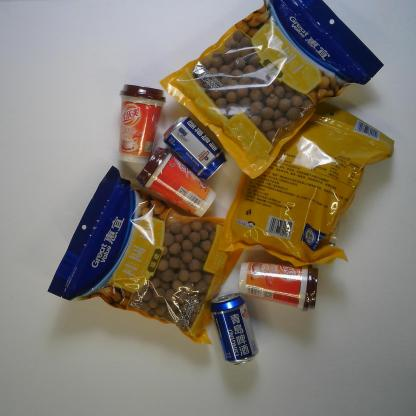Alcohol: (162, 115, 228, 181), (208, 292, 260, 366)
Dried Food: (158, 0, 385, 181), (44, 164, 252, 347), (214, 96, 395, 269)
Instant Drink: (136, 146, 217, 219), (238, 258, 321, 313), (118, 83, 167, 164)
